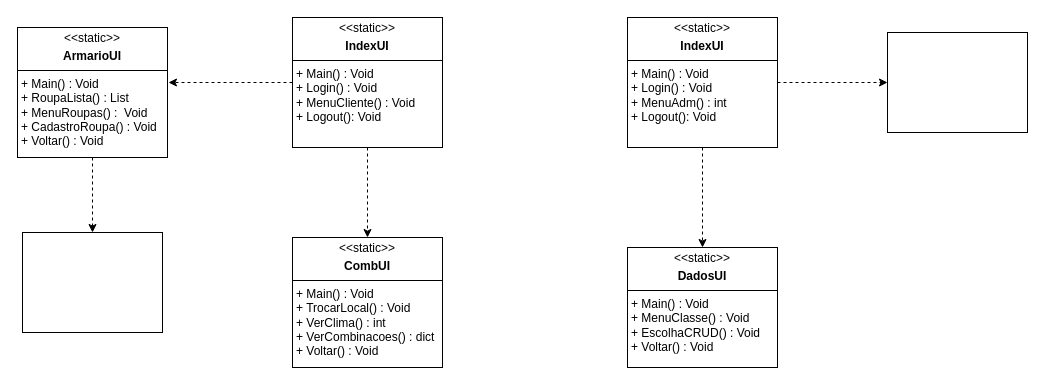
The diagram is 1045 pixels wide and 385 high, and some of its shapes have lost their labels. The box of each missing label's shape, as (x1, y1, x2, y2) in pixels:
<<static>> CadastroUI + Main() : Void + InserirRoupa() : Void + Voltar() : Void: (22, 232, 162, 332)
<<static>> TipoRoupaUI + Main() : Void + InserirTipo() : Void + Voltar() : Void: (886, 32, 1028, 132)
